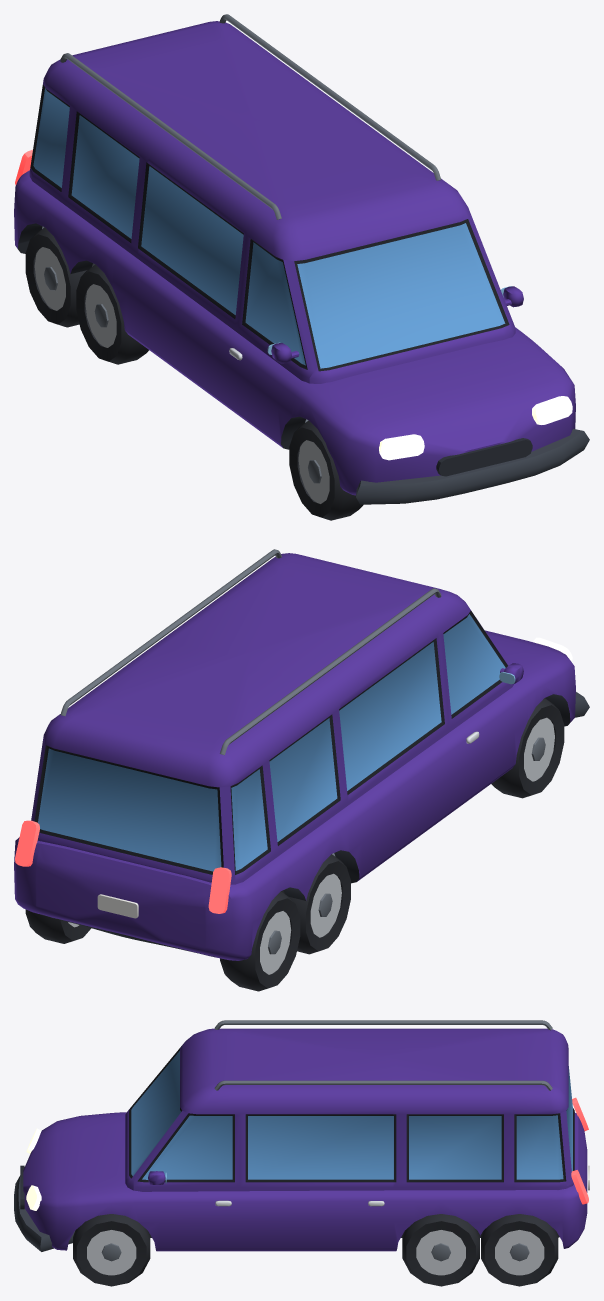
The model's file is minivan_roxa_6_rodas.glb.
The picture shows the model from 3 angles, top to bottom: view 1: azimuth 30°, elevation 25°; view 2: azimuth 150°, elevation 25°; view 3: azimuth 270°, elevation 25°; orthographic projection. The views are drawn at different scales.
Visible parts, largest first — view 1: minivan_roxa_6_rodas, porta_dianteira_esq, roda_dianteira_esq, roda_meio_esq, roda_traseira_esq; view 2: minivan_roxa_6_rodas, tampa_traseira, porta_dianteira_esq, roda_traseira_esq, roda_dianteira_esq, roda_meio_esq, roda_traseira_dir; view 3: minivan_roxa_6_rodas, porta_correr_dir, porta_dianteira_dir, roda_dianteira_dir, roda_meio_dir, roda_traseira_dir, tampa_traseira.
Boxes of the visible parts, <box> form: minivan_roxa_6_rodas: <box>14,14,589,504</box>; porta_dianteira_esq: <box>225,236,317,444</box>; roda_dianteira_esq: <box>289,420,363,520</box>; roda_meio_esq: <box>76,264,148,364</box>; roda_traseira_esq: <box>25,227,94,327</box>; minivan_roxa_6_rodas: <box>14,549,589,960</box>; tampa_traseira: <box>31,638,444,924</box>; porta_dianteira_esq: <box>440,610,530,803</box>; roda_traseira_esq: <box>220,891,300,991</box>; roda_dianteira_esq: <box>491,698,564,798</box>; roda_meio_esq: <box>281,854,350,954</box>; roda_traseira_dir: <box>25,909,91,943</box>; minivan_roxa_6_rodas: <box>14,1020,589,1251</box>; porta_correr_dir: <box>240,1114,392,1248</box>; porta_dianteira_dir: <box>133,1111,240,1248</box>; roda_dianteira_dir: <box>73,1214,150,1286</box>; roda_meio_dir: <box>402,1214,479,1286</box>; roda_traseira_dir: <box>481,1214,558,1286</box>; tampa_traseira: <box>406,1066,587,1208</box>.
Size of the model in its own units: 2.11 by 2.06 by 5.51.
4 materials, 1 textured.
